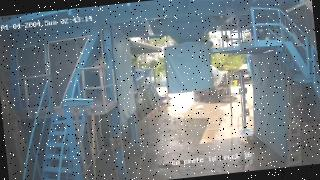cement_mixer_truck: (193, 67, 229, 101)
